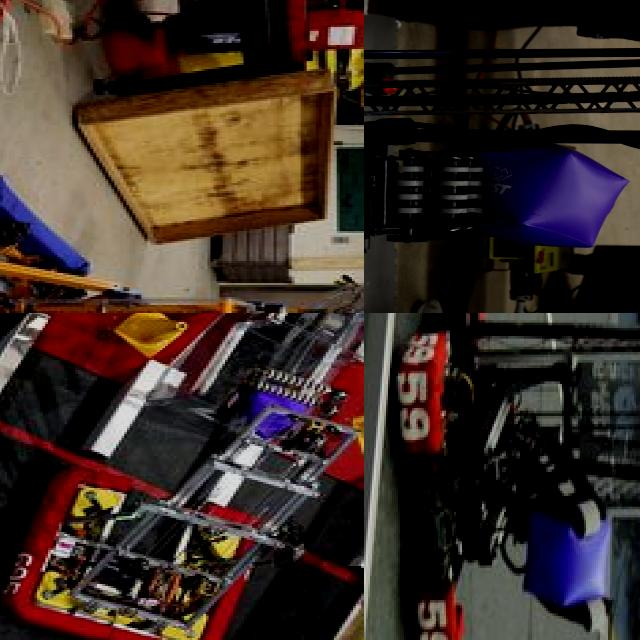FRC-Robots: (1, 313, 364, 640), (364, 313, 640, 640), (364, 0, 640, 313), (0, 168, 364, 313)
